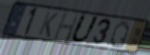1: (23, 7, 40, 37)
3: (90, 18, 113, 47)
H: (51, 11, 81, 43)
K: (37, 10, 60, 39)
Q: (108, 20, 131, 50)
U: (69, 13, 101, 44)
